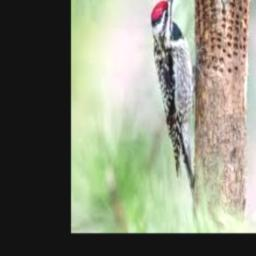Woodpecker: (152, 0, 196, 193)
